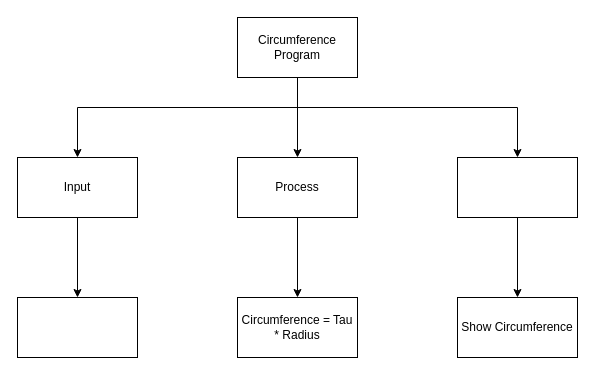
This 595x375 diagram has some shape labels left out. Here are the shapes that lost their labels. From the top down, the centre of each, then its label:
point (517, 187): Output
point (77, 327): Enter Radius
